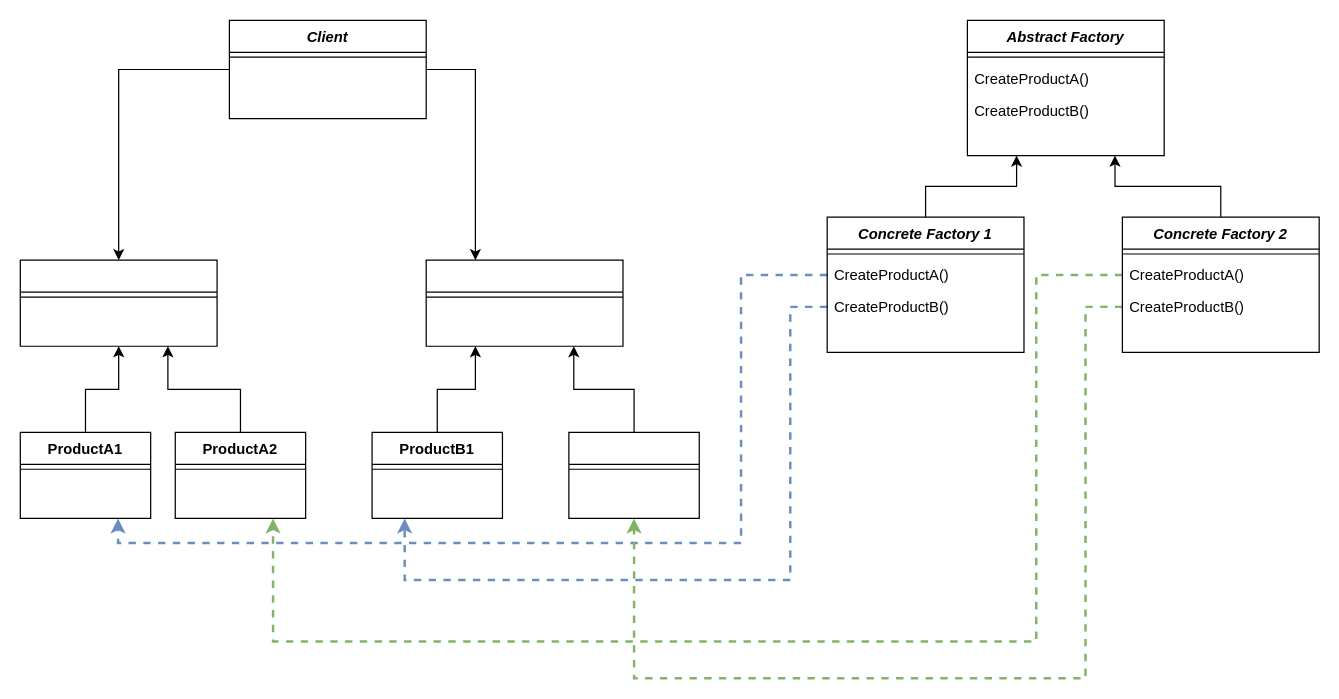
This 1339x699 diagram has some shape labels left out. The shapes that lost their labels are listed below. From the top down, each one's centre as x and y in pixels, then its label:
pixel 118 302: AbstractProductA
pixel 524 302: AbstractProductB
pixel 633 474: ProductB2
